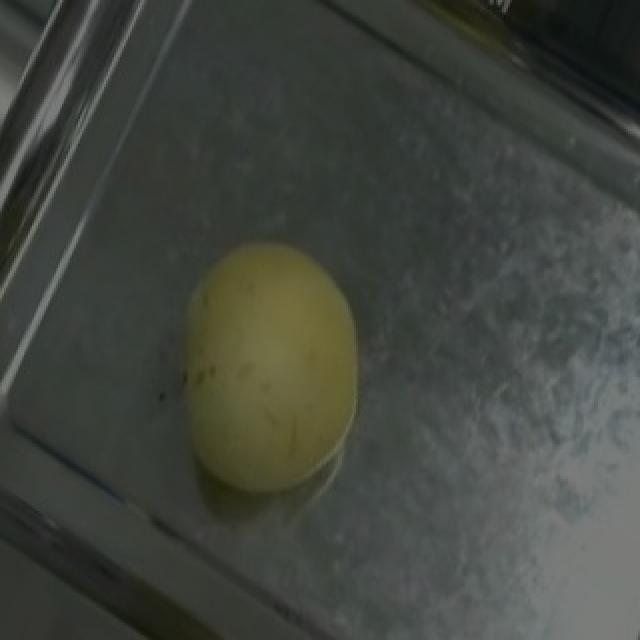Fruit: (126, 198, 408, 536)
